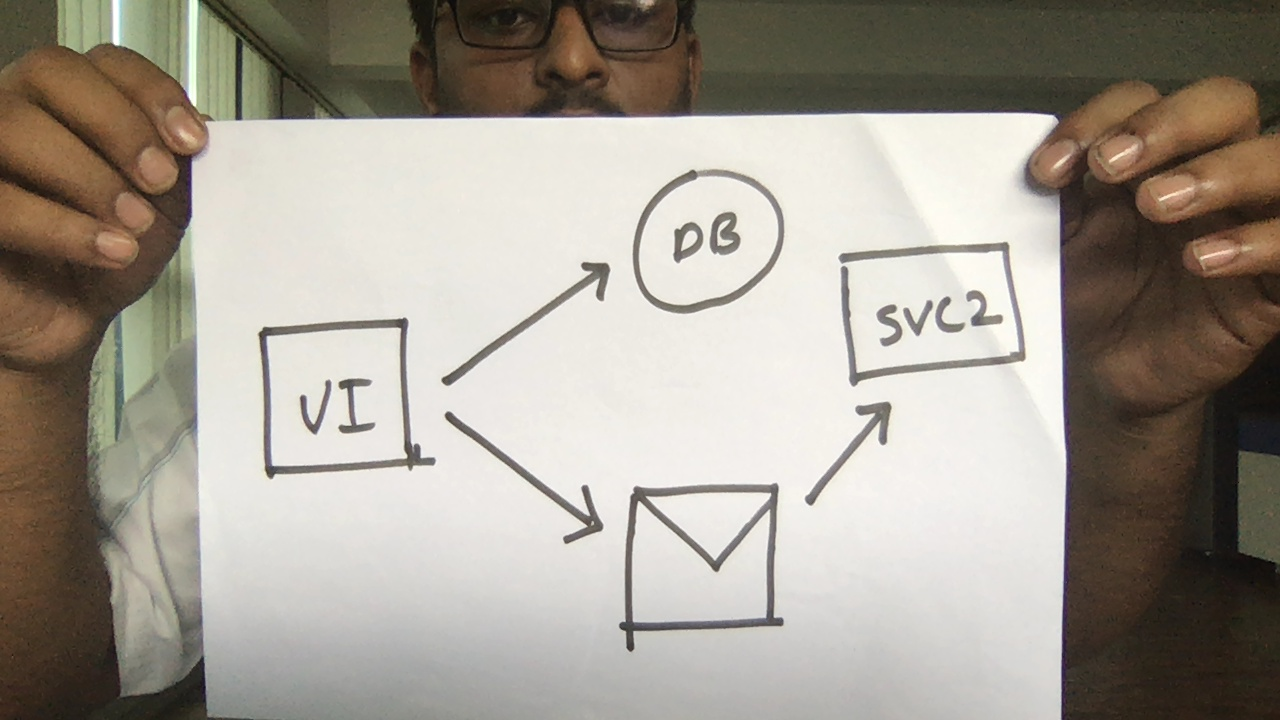arrow: (437, 247, 618, 395), (440, 404, 613, 554), (792, 391, 901, 511)
db: (623, 160, 790, 315)
ec2: (831, 237, 1033, 384)
sns: (616, 476, 794, 647)
ui: (250, 315, 426, 483)
